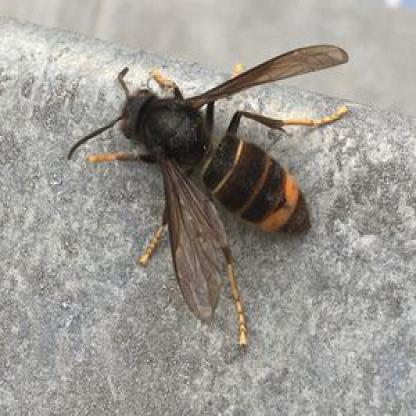Asian Hornet: (65, 28, 353, 348)
